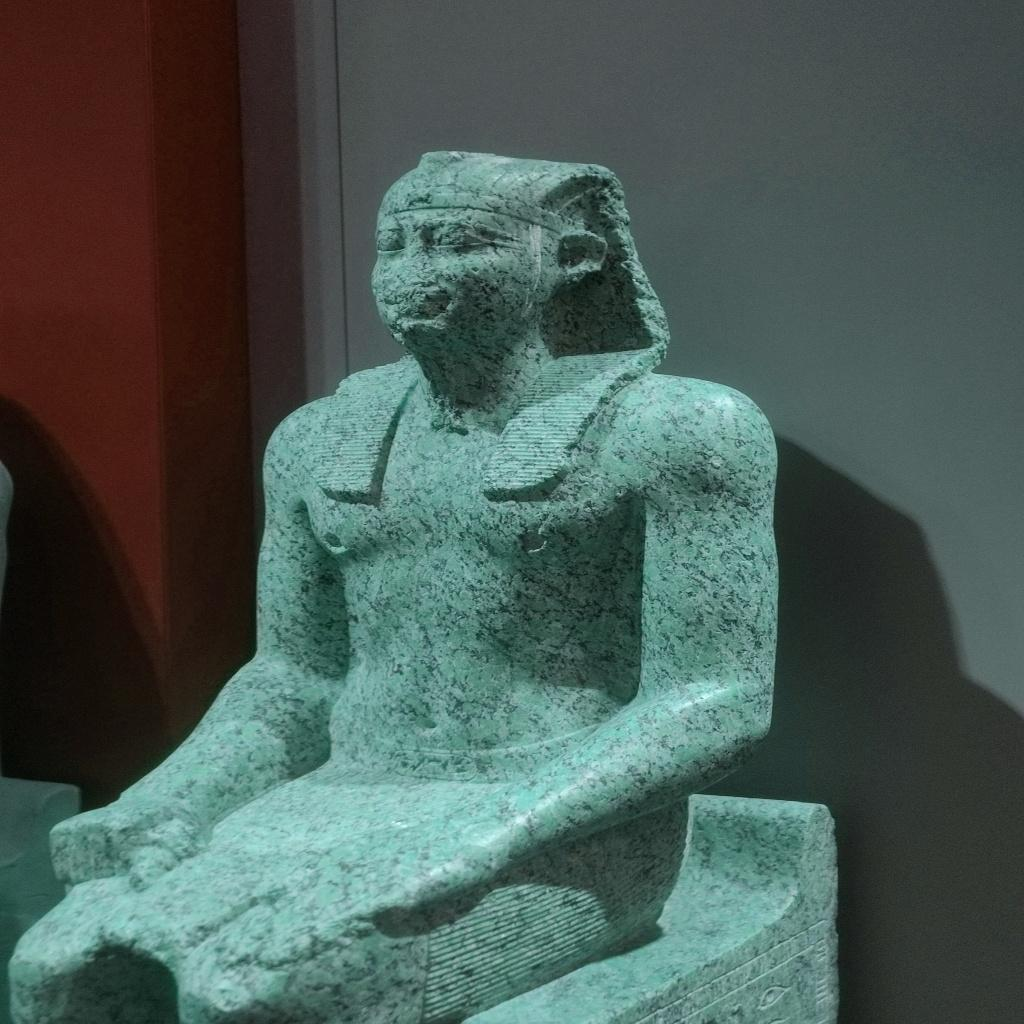Statue of Amenmhat I: (6, 147, 790, 1021)
